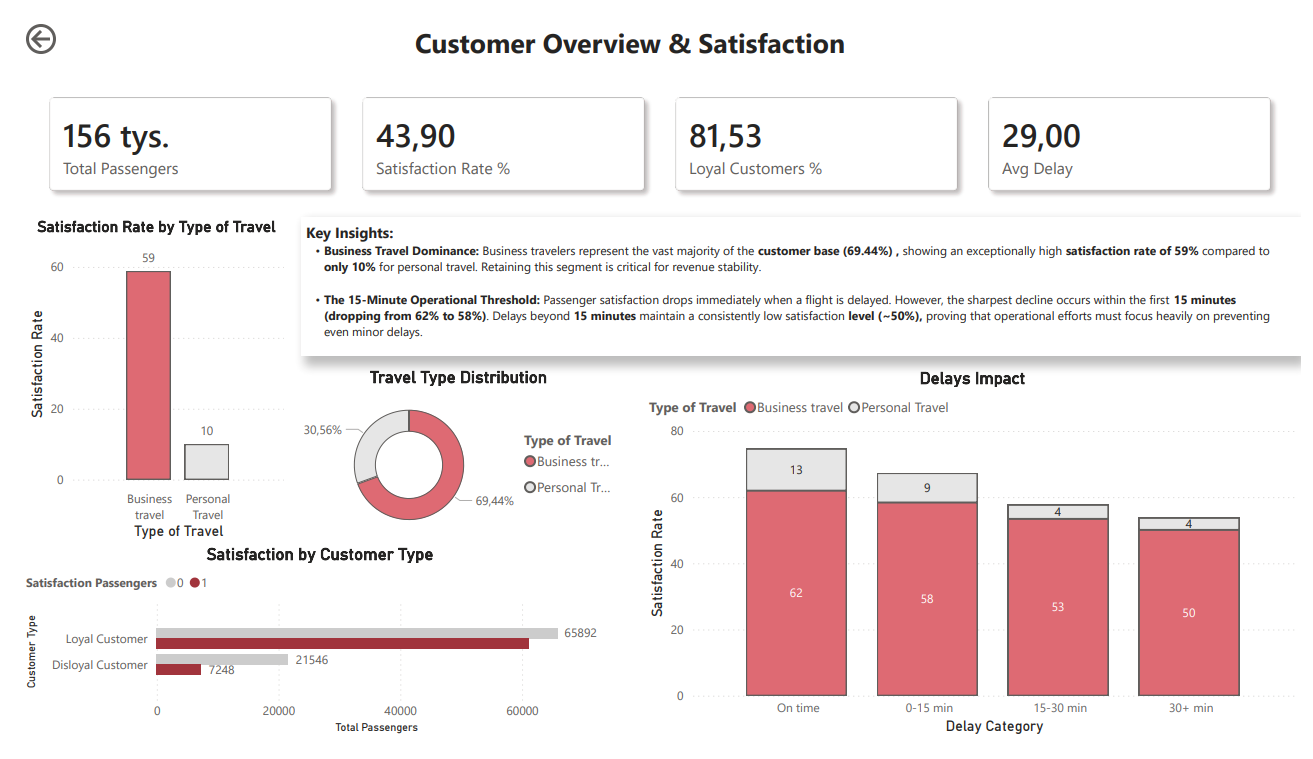

This screenshot's page, from the dashboard's own definition file:
{"tool":"powerbi","page":{"name":"Strona 1","canvas":[1280,720],"ordinal":0},"visuals":[{"type":"cardVisual","fields":{"Data":["test.Total Passangers","test.Satisfaction Rate","test.Loyal Customers %","test.Avg Delay"]},"box":[0,50,1280,150],"z":0},{"type":"clusteredBarChart","title":"Satisfaction by Customer Type","fields":{"Category":["test.Customer Type"],"Y":["test.Total Passangers"],"Series":["test.Satisfaction_pasangers"]},"box":[0,525,597.5,195],"z":1000},{"type":"columnChart","title":"Delays Impact","fields":{"Y":["test.Satisfaction Rate"],"Category":["test.Delay Category"],"Series":["test.Type of Travel"]},"box":[622.5,348.8,657.5,371.2],"z":2000},{"type":"donutChart","title":"Travel Type Distribution","fields":{"Category":["test.Type of Travel"],"Y":["test.Total Passangers"]},"box":[268.3,348.3,338.3,176.7],"z":3000},{"type":"columnChart","title":"Satisfaction Rate by Type of Travel","fields":{"Y":["test.Satisfaction Rate"],"Category":["test.Type of Travel"]},"box":[2.5,197.5,265,327.5],"z":4000},{"type":"textbox","box":[280,198.3,1000,138.3],"z":5000},{"type":"textbox","box":[388.8,0,632.5,66.2],"z":6000},{"type":"actionButton","box":[0,0,100,40],"z":7000}]}

Visuals, with their boxes in screenshot pixels (x1, y1, x2, y2), scaled from the page's 1280x720 canvas onto the 1313x759 screenshot:
cardVisual - test.Total Passangers x test.Satisfaction Rate: 0:53:1312:211
"Satisfaction by Customer Type" clusteredBarChart: 0:553:613:758
"Delays Impact" columnChart: 639:368:1312:758
"Travel Type Distribution" donutChart: 275:367:622:553
"Satisfaction Rate by Type of Travel" columnChart: 3:208:274:553
textbox: 287:209:1312:355
textbox: 399:0:1048:70
actionButton: 0:0:103:42
